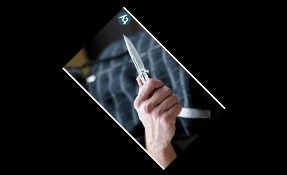k1: (120, 31, 151, 81)
